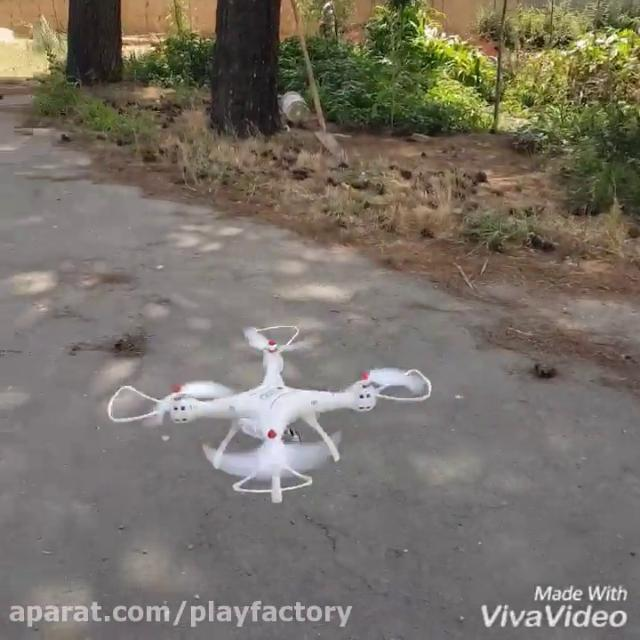drone: (104, 322, 436, 504)
